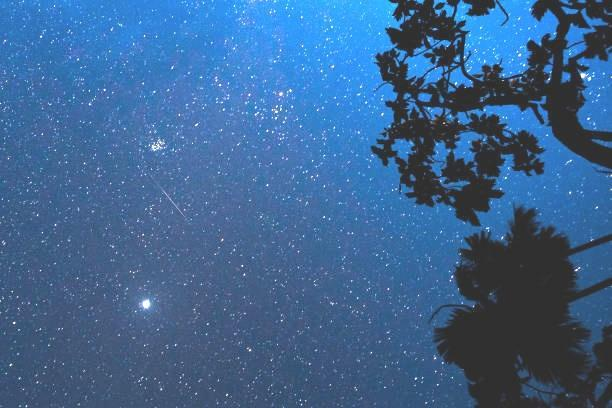meteorite: (140, 175, 191, 227)
